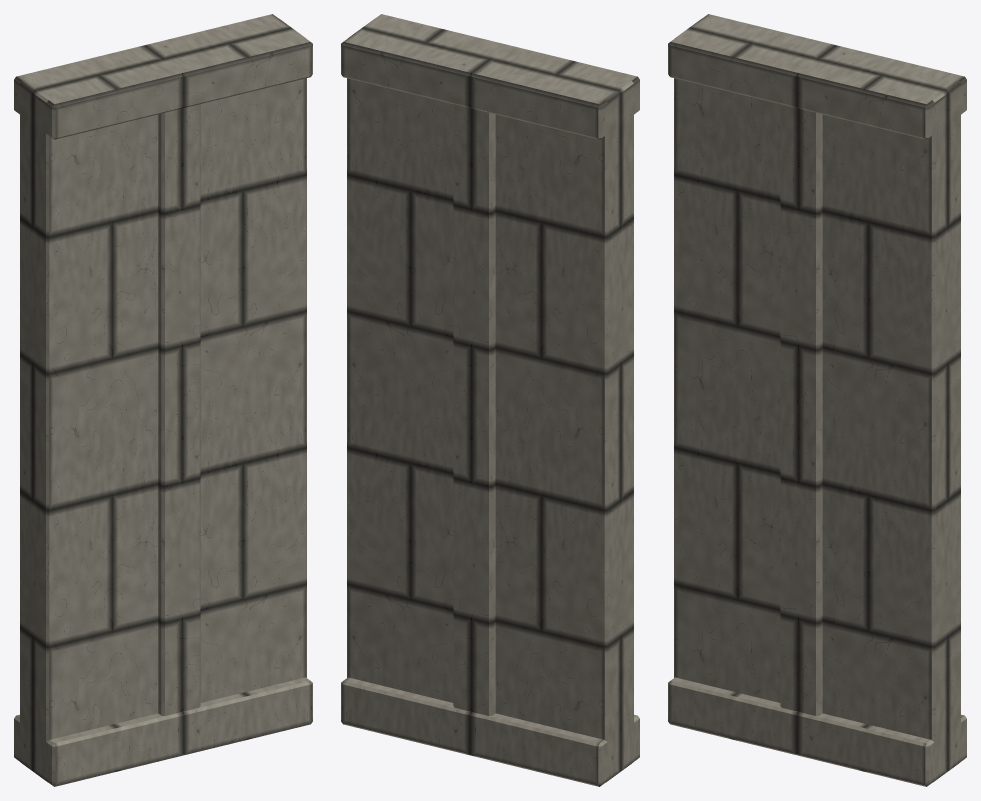
The model's file is wall_marble_a.glb.
3 views of the same model, side by side, from view 1: azimuth 30°, elevation 25°; view 2: azimuth 150°, elevation 25°; view 3: azimuth 330°, elevation 25° (orthographic).
Visible parts, largest first — view 1: wall_marble_a; view 2: wall_marble_a; view 3: wall_marble_a.
Part boxes in pixels (bbox=[...]): wall_marble_a: bbox=[14, 14, 312, 786]; wall_marble_a: bbox=[341, 14, 639, 786]; wall_marble_a: bbox=[668, 14, 966, 786].
Bounding box in the file's own units: 1 × 2.5 × 0.27.
1 material, 1 textured.
